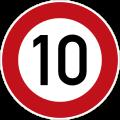Speed Limit -10-: (16, 19, 105, 103)
